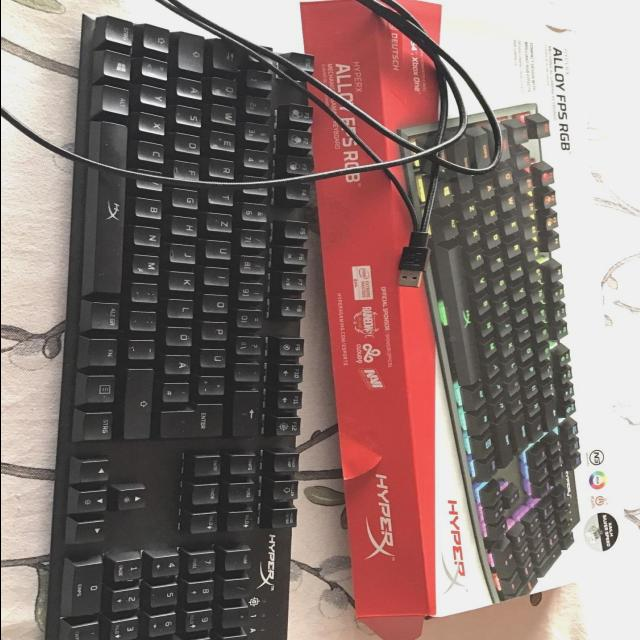0: (237, 308, 265, 328)
1: (247, 68, 275, 90)
2: (247, 95, 275, 116)
3: (246, 121, 274, 142)
4: (245, 149, 273, 169)
6: (243, 202, 271, 223)
7: (241, 228, 270, 248)
8: (240, 254, 269, 274)
9: (238, 281, 267, 302)
a: (178, 77, 206, 99)
accent: (235, 361, 265, 381)
ae: (166, 353, 194, 374)
alt-left: (103, 84, 132, 116)
altgr-right: (91, 300, 123, 330)
b: (137, 197, 166, 219)
c: (139, 140, 167, 164)
comma: (132, 282, 161, 302)
d: (175, 132, 203, 154)
del: (234, 389, 262, 437)
e: (211, 130, 239, 152)
enter: (161, 402, 227, 437)
f: (174, 160, 202, 182)
g: (173, 188, 201, 209)
h: (172, 215, 200, 236)
hash: (163, 381, 193, 401)
i: (205, 266, 233, 286)
j: (171, 243, 199, 263)
k: (170, 271, 199, 291)
keyboard: (47, 5, 318, 640), (395, 102, 594, 602)
l: (169, 298, 197, 318)
less: (143, 56, 171, 80)
m: (133, 253, 162, 275)
minus: (129, 338, 158, 360)
n: (135, 225, 164, 247)
o: (203, 293, 231, 313)
oe: (167, 326, 195, 346)
p: (203, 320, 231, 340)
plus: (199, 375, 228, 395)
point: (131, 310, 159, 330)
q: (212, 76, 240, 98)
r: (210, 157, 238, 179)
s: (177, 105, 205, 127)
shift-left: (144, 22, 172, 52)
shift-lock: (179, 31, 207, 73)
shift-right: (125, 368, 155, 439)
space: (94, 120, 130, 292)
ss: (237, 335, 266, 355)
strg-left: (107, 13, 136, 45)
strg-right: (84, 410, 116, 441)
t: (209, 184, 237, 206)
tab: (213, 37, 241, 71)
u: (206, 239, 234, 259)
ue: (201, 347, 229, 368)
w: (211, 103, 239, 125)
x: (140, 111, 168, 135)
y: (141, 83, 169, 107)
z: (208, 212, 236, 232)
